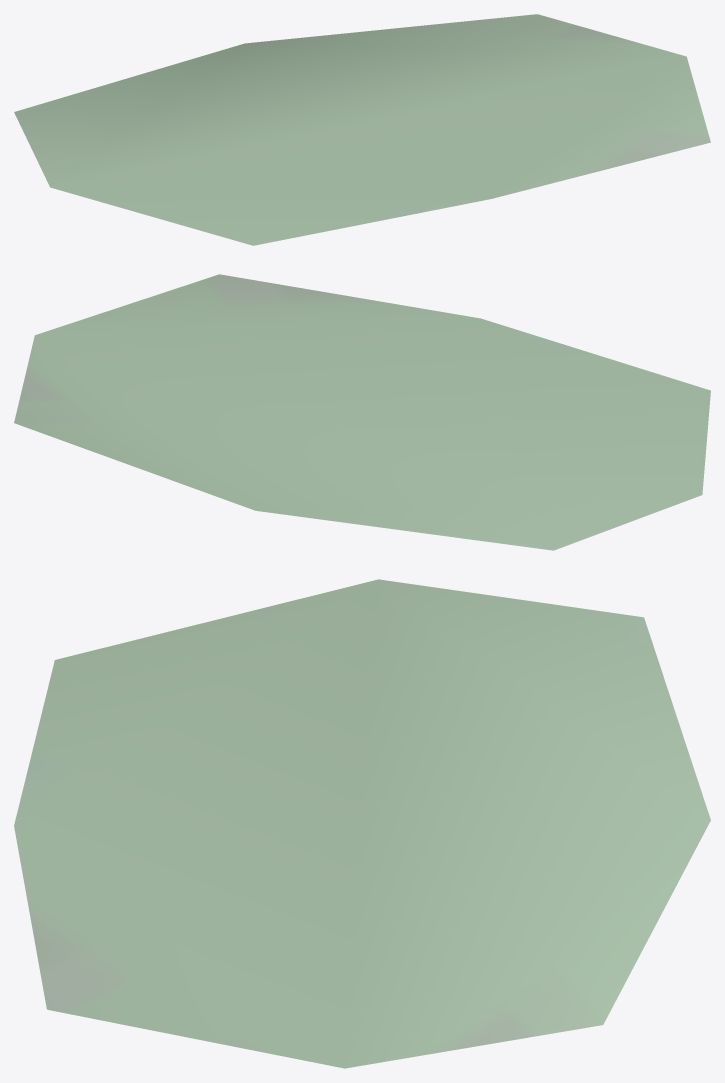
Rendered from TROLLHOLE02_HOLECAP217.fbx.
The picture shows the model from 3 angles, top to bottom: view 1: azimuth 30°, elevation 25°; view 2: azimuth 150°, elevation 25°; view 3: azimuth 270°, elevation 25°; orthographic projection. The views are drawn at different scales.
Visible parts, largest first — view 1: TROLLHOLE02_HOLECAP217; view 2: TROLLHOLE02_HOLECAP217; view 3: TROLLHOLE02_HOLECAP217.
Part boxes in pixels (x1,y1,x2,y2): TROLLHOLE02_HOLECAP217: (14,14,710,245); TROLLHOLE02_HOLECAP217: (14,274,710,550); TROLLHOLE02_HOLECAP217: (14,579,710,1068).
Size of the model in its own units: 19801 by 514 by 12454.
Materials: 1 (1 with a texture image).
